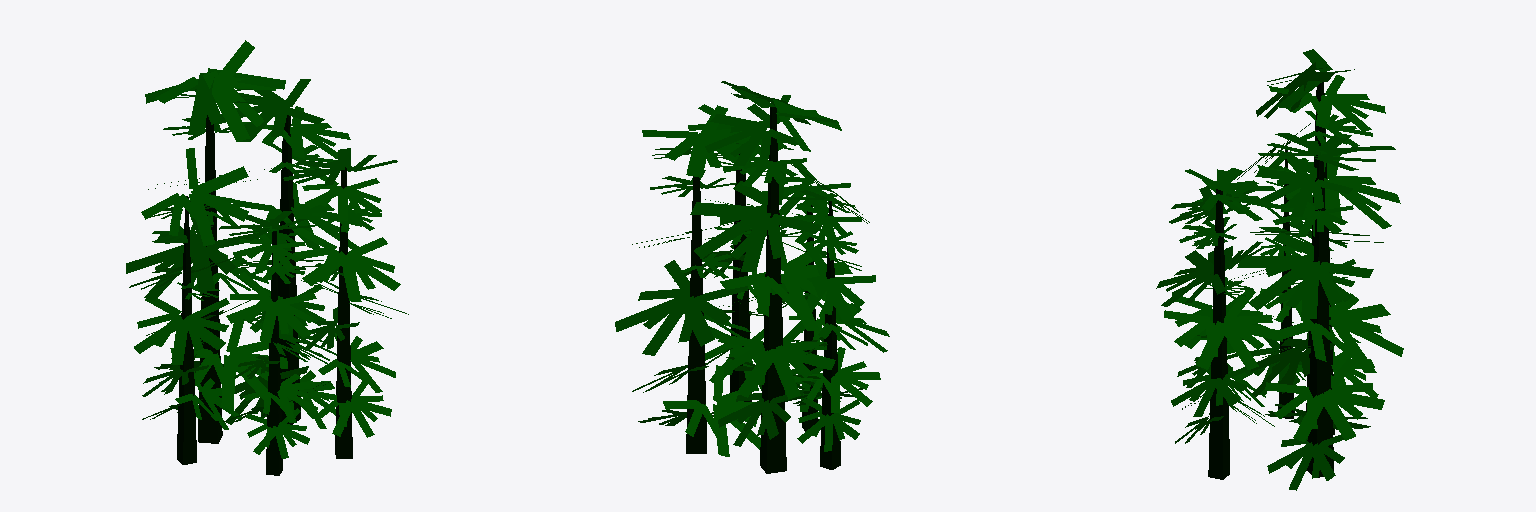
The model's file is BlackBamboo.obj.
The picture shows the model from 3 angles: view 1: azimuth 30°, elevation 25°; view 2: azimuth 150°, elevation 25°; view 3: azimuth 270°, elevation 25°; orthographic projection.
Parts seen in each view (by area): view 1: BlackBamboo_Cube.009; view 2: BlackBamboo_Cube.009; view 3: BlackBamboo_Cube.009.
Part boxes in pixels (bbox=[...]): BlackBamboo_Cube.009: bbox=[126, 40, 408, 475]; BlackBamboo_Cube.009: bbox=[615, 81, 889, 473]; BlackBamboo_Cube.009: bbox=[1156, 49, 1403, 490].
Size of the model in its own units: 7.06 by 10.85 by 6.37.